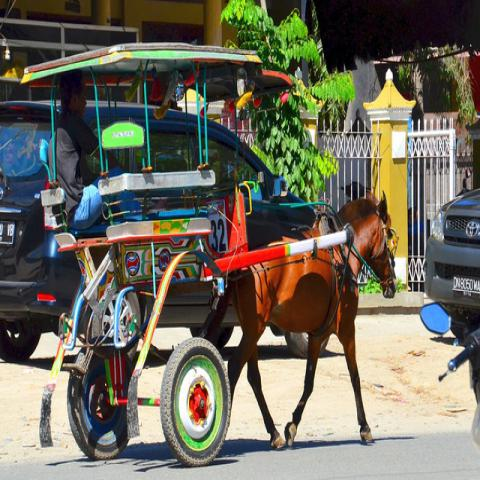car: (1, 96, 319, 366), (426, 186, 480, 342)
motorcycle: (418, 302, 480, 404)
